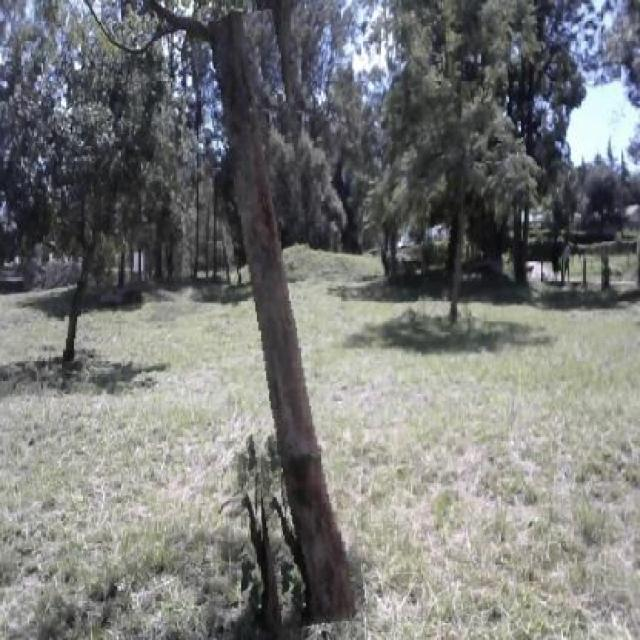tree trunk: (212, 11, 346, 629), (422, 79, 486, 333), (66, 148, 116, 375)
